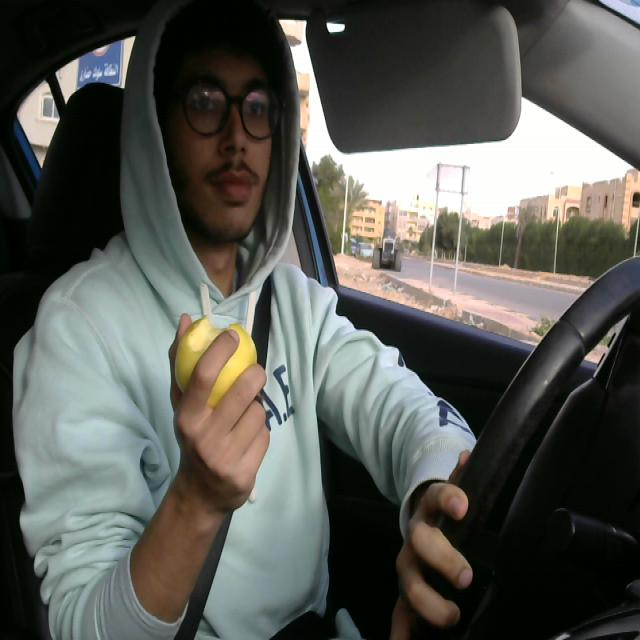eating: (173, 315, 259, 410)
